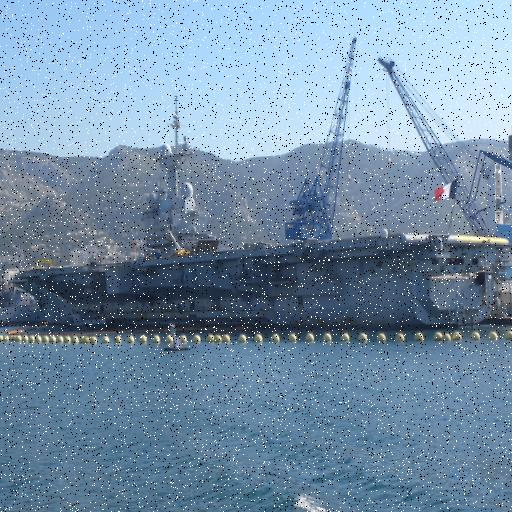Portanaves: (5, 90, 512, 339)
